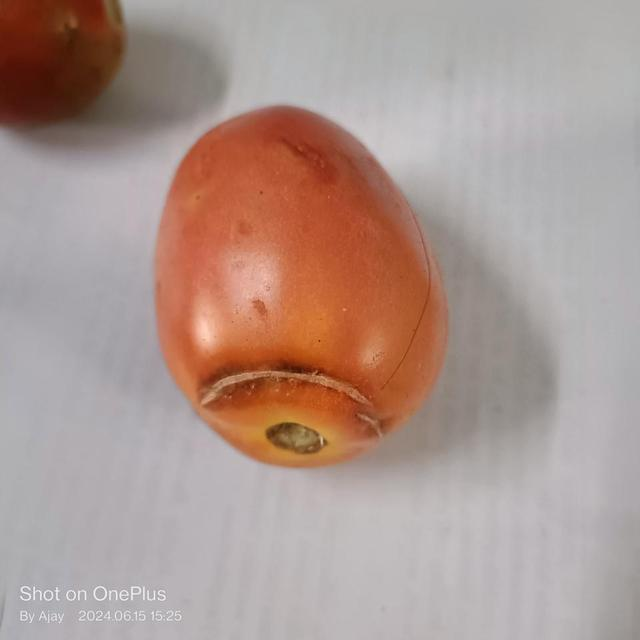Cracking Fruit: (86, 101, 214, 373)
